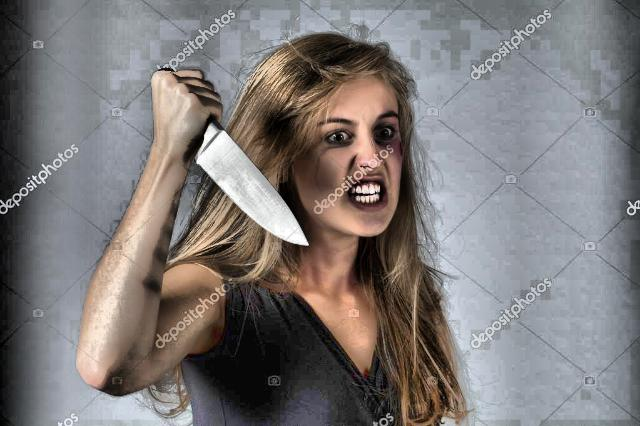knife: (177, 70, 315, 254)
